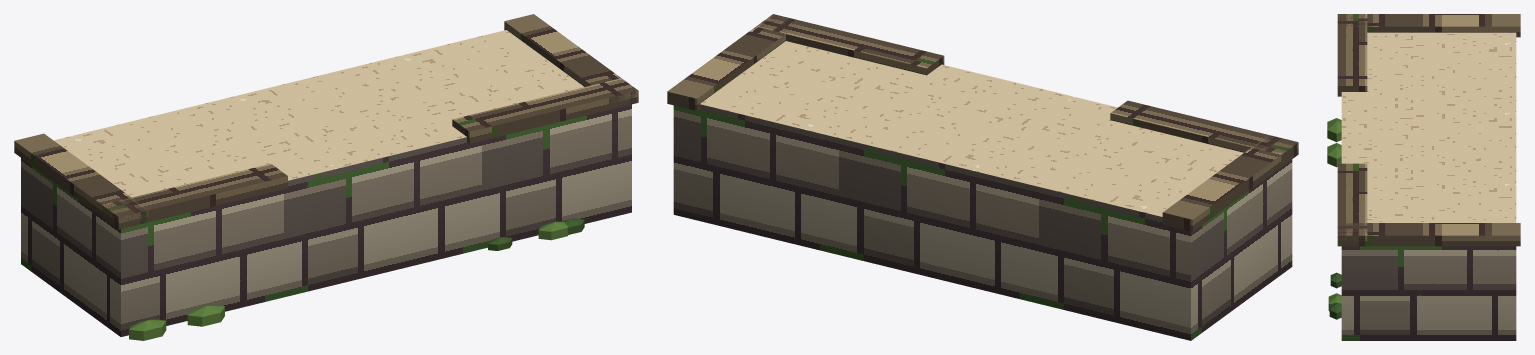
File: scene_plat_g9.glb
The picture shows the model from 3 angles, left to right: view 1: azimuth 30°, elevation 25°; view 2: azimuth 150°, elevation 25°; view 3: azimuth 270°, elevation 25°; orthographic projection. The views are drawn at different scales.
Visible parts, largest first — view 1: scene_plat_g9; view 2: scene_plat_g9; view 3: scene_plat_g9.
Part boxes in pixels (x1,y1,x2,y2): scene_plat_g9: (14,14,638,340); scene_plat_g9: (667,14,1298,340); scene_plat_g9: (1327,14,1520,340).
Size of the model in its own units: 6.3 by 1.49 by 2.32.
3 materials, 2 textured.
